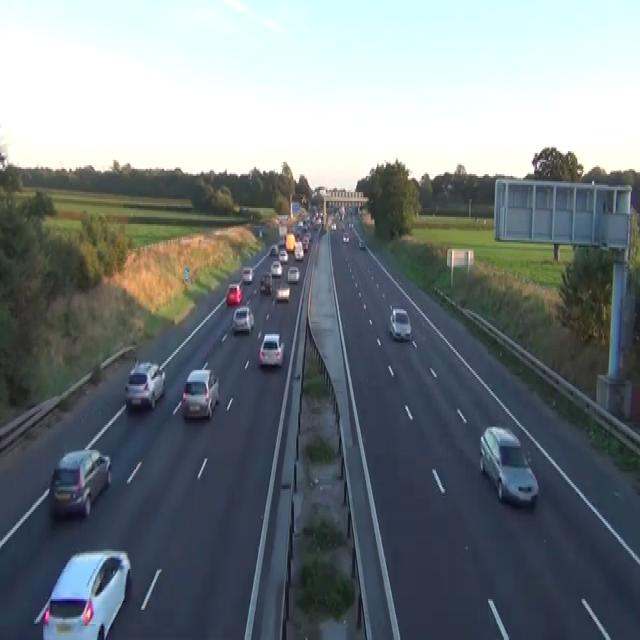Car: (33, 548, 131, 638), (479, 425, 539, 505), (49, 448, 111, 517), (124, 359, 165, 411), (181, 368, 219, 420), (258, 332, 284, 367), (388, 306, 411, 341), (232, 306, 254, 334), (226, 282, 242, 306), (275, 283, 290, 302), (259, 272, 272, 293), (287, 265, 299, 283), (270, 260, 282, 276), (242, 266, 253, 282), (294, 242, 303, 260), (278, 247, 288, 263), (269, 244, 278, 256), (277, 240, 285, 251), (302, 237, 308, 250), (358, 238, 365, 249), (294, 231, 301, 242), (342, 233, 349, 242), (348, 220, 354, 230), (321, 224, 326, 233), (446, 182, 453, 188), (331, 222, 336, 230), (259, 230, 262, 237)
